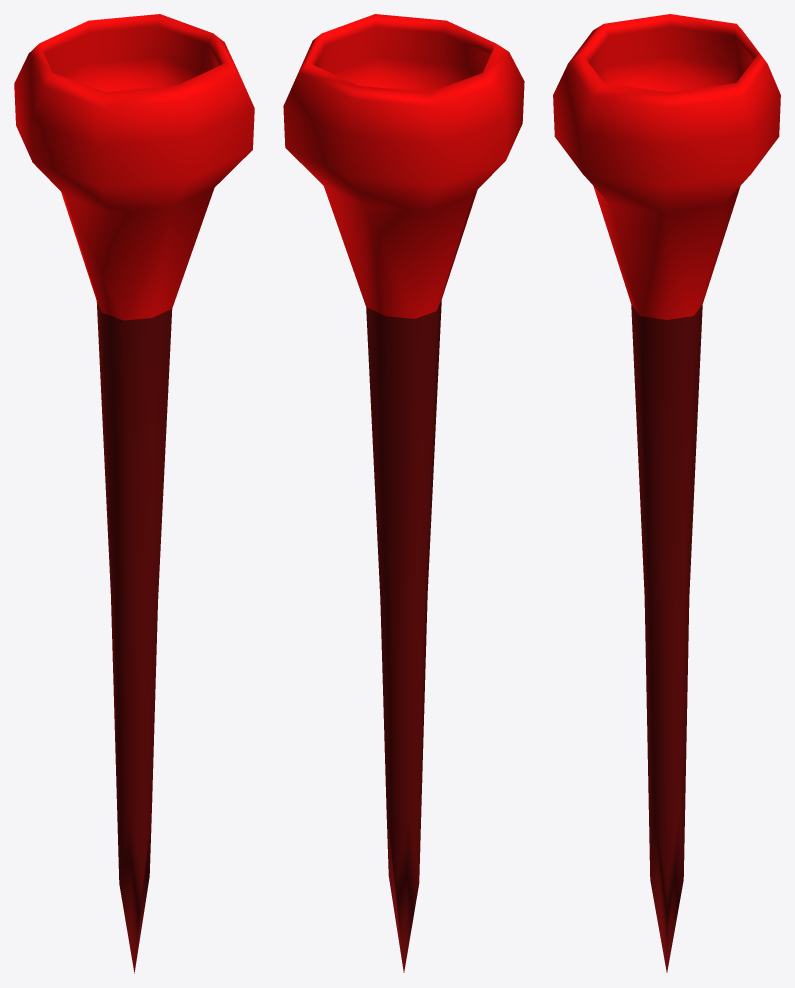
Rendered from Plunger.fbx.
3 views of the same model, side by side, from view 1: azimuth 30°, elevation 25°; view 2: azimuth 150°, elevation 25°; view 3: azimuth 270°, elevation 25° (orthographic).
Visible parts, largest first — view 1: Plunger; view 2: Plunger; view 3: Plunger.
Boxes of the visible parts, x1=… form: Plunger: x1=14, y1=14, x2=254, y2=973; Plunger: x1=283, y1=14, x2=524, y2=972; Plunger: x1=553, y1=14, x2=780, y2=972.
Bounding box in the file's own units: 121 × 115 × 513.
